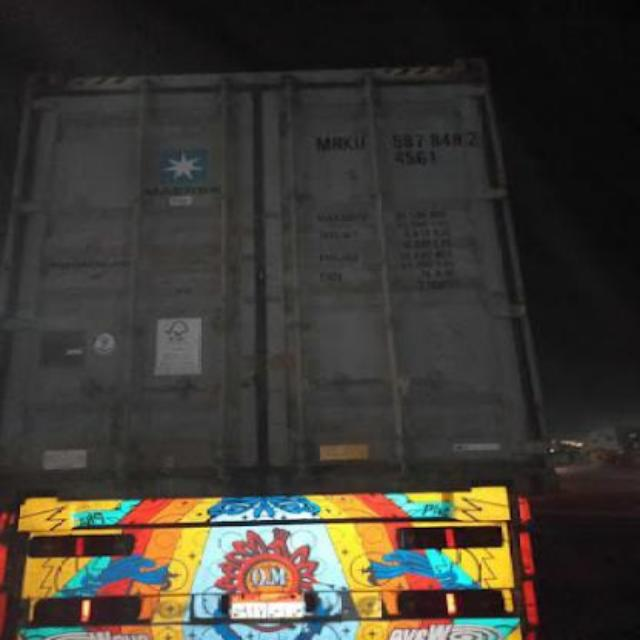2: (466, 128, 478, 152)
4: (442, 127, 452, 151)
5: (390, 128, 402, 150)
7: (412, 132, 424, 152)
8: (401, 124, 414, 152), (451, 126, 464, 150), (426, 128, 439, 150)
K: (340, 132, 352, 158)
M: (314, 132, 330, 158)
R: (328, 133, 342, 157)
U: (350, 132, 368, 154)
